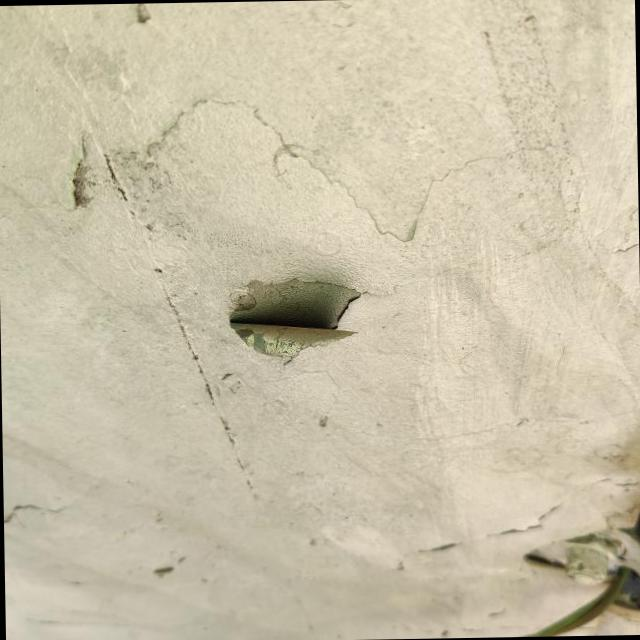Paint-off: (228, 271, 361, 357)
